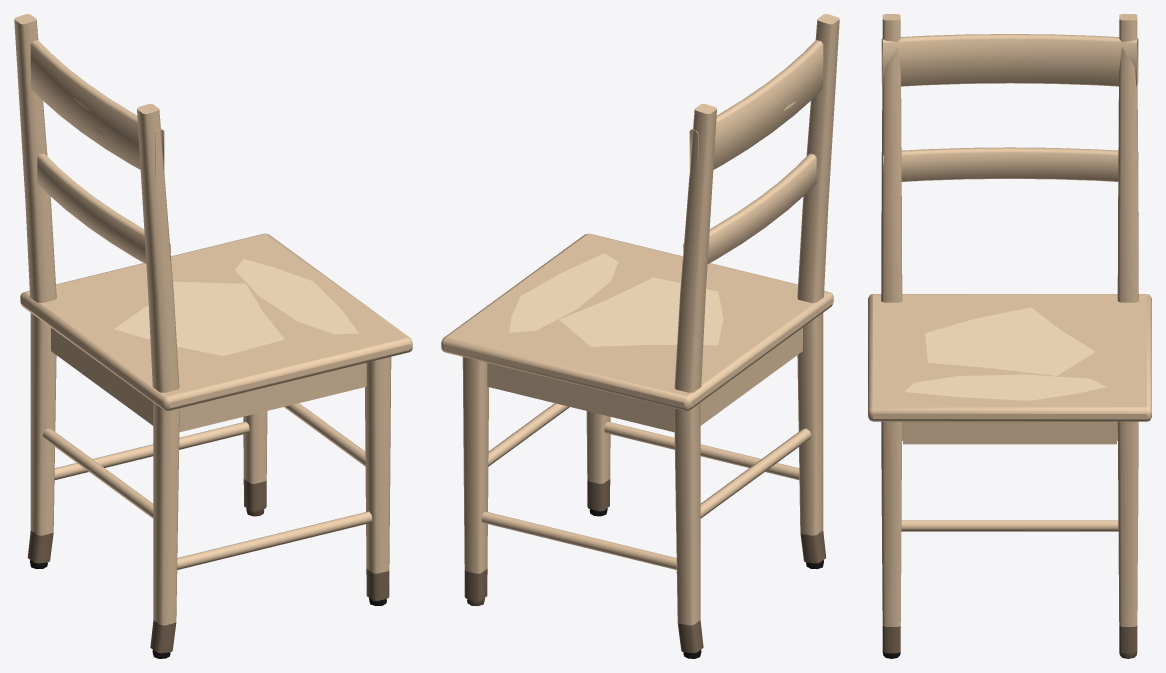
File: chair.glb
3 views of the same model, side by side, from view 1: azimuth 30°, elevation 25°; view 2: azimuth 150°, elevation 25°; view 3: azimuth 270°, elevation 25° (orthographic). The views are drawn at different scales.
Visible parts, largest first — view 1: chair1, chair4, chair0; view 2: chair1, chair4, chair0; view 3: chair1, chair4, chair0.
Part boxes in pixels (x1,y1,x2,y2): chair1: [14, 14, 412, 625]; chair4: [73, 98, 358, 355]; chair0: [27, 479, 389, 653]; chair1: [441, 14, 839, 625]; chair4: [509, 96, 796, 346]; chair0: [464, 479, 826, 653]; chair1: [868, 14, 1151, 626]; chair4: [905, 307, 1106, 400]; chair0: [882, 626, 1137, 653].
Size of the model in its own units: 0.4692 by 0.941 by 0.456.
